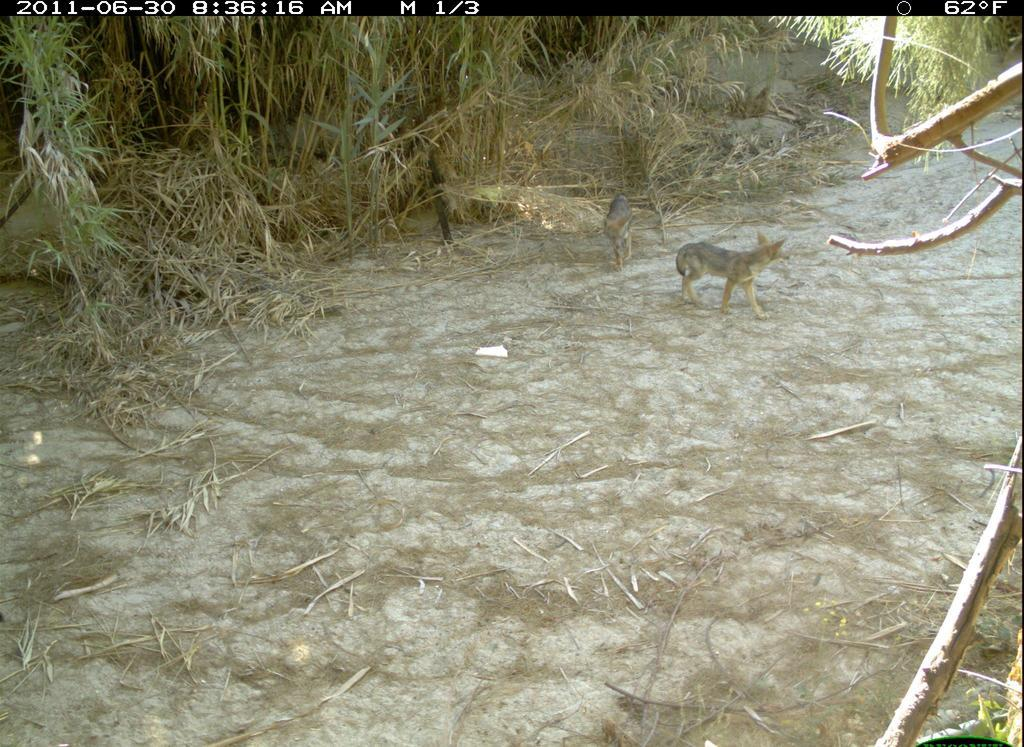coyote: (666, 230, 795, 326), (589, 190, 642, 276)
